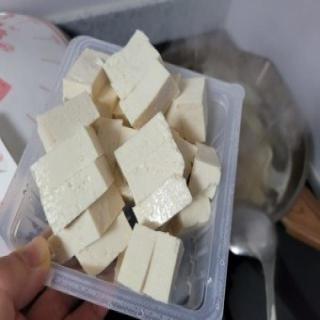Tahu: (32, 31, 222, 304)
